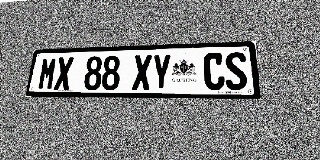8: (83, 56, 103, 90), (101, 56, 121, 90)
C: (203, 52, 225, 90)
M: (37, 57, 58, 90)
S: (224, 52, 248, 90)
X: (132, 55, 152, 90), (53, 57, 74, 90)
Y: (151, 54, 171, 90)
